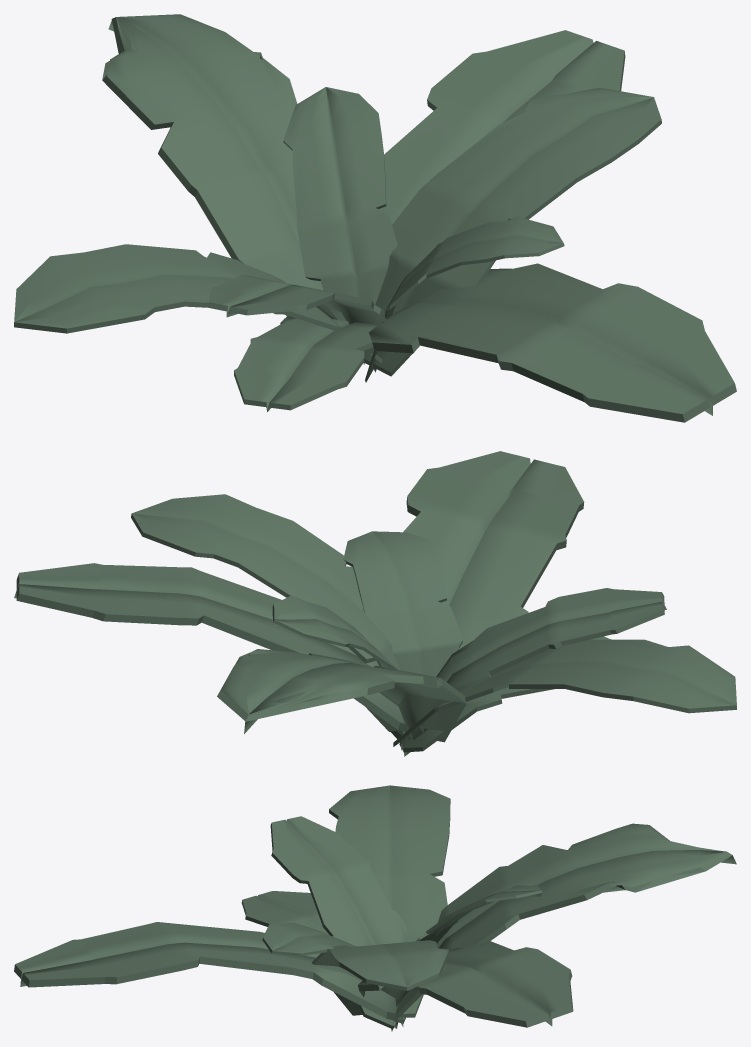
File: Plant 1.fbx
3 views of the same model, one above another, from view 1: azimuth 30°, elevation 25°; view 2: azimuth 150°, elevation 25°; view 3: azimuth 270°, elevation 25° (orthographic). The views are drawn at different scales.
Visible parts, largest first — view 1: Plant_1; view 2: Plant_1; view 3: Plant_1.
Boxes of the visible parts, x1,y1,x2,y2 form: Plant_1: [14, 14, 736, 422]; Plant_1: [14, 451, 736, 756]; Plant_1: [14, 785, 736, 1031].
Bounding box in the file's own units: 1.23 × 0.3645 × 1.41.
